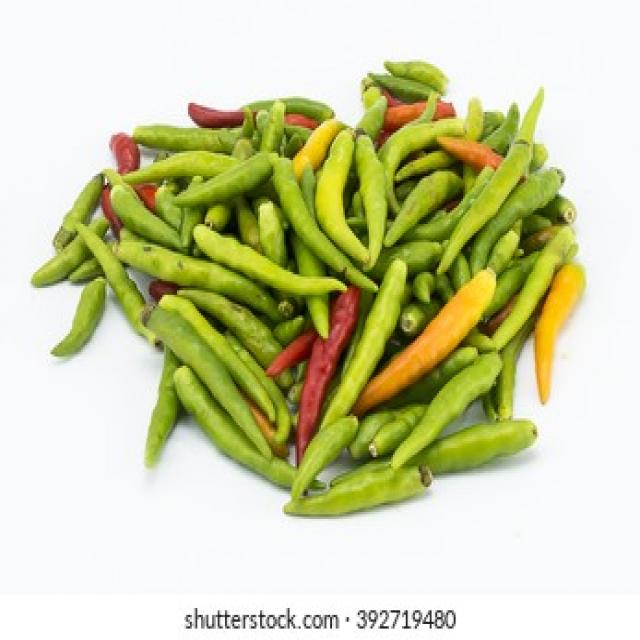green chilli: (354, 272, 498, 415), (439, 87, 546, 273), (148, 309, 266, 447), (175, 368, 297, 488), (273, 160, 378, 291), (325, 261, 405, 429), (118, 242, 280, 321), (194, 224, 347, 296), (78, 224, 157, 344), (315, 128, 371, 264), (537, 263, 588, 403), (284, 469, 432, 517), (409, 421, 539, 474), (175, 153, 277, 207)
